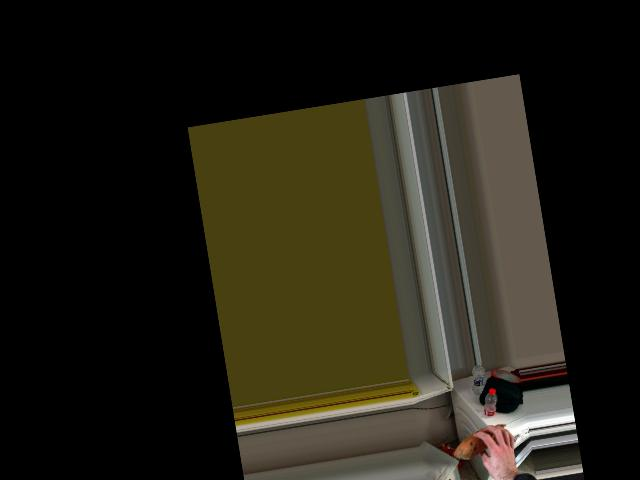sweet_potato: (455, 423, 511, 456)
